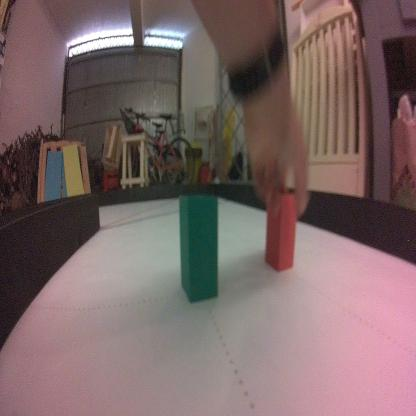green: (177, 193, 220, 304)
red: (264, 195, 298, 276)
